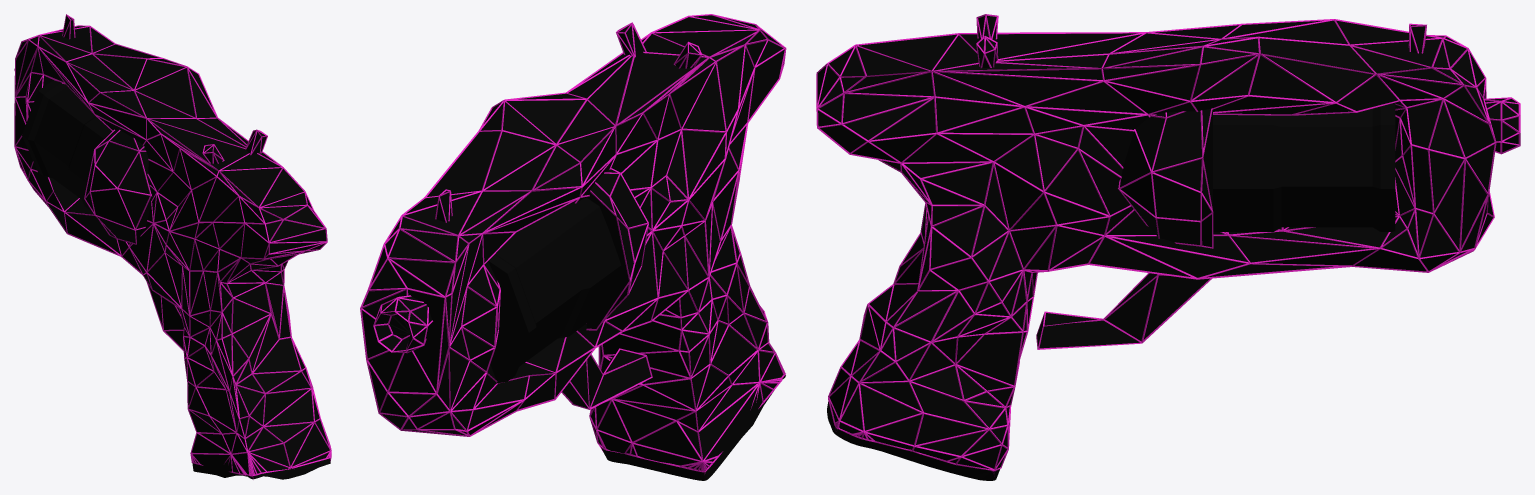
Rendered from EnergyPistol.glb.
3 views of the same model, side by side, from view 1: azimuth 30°, elevation 25°; view 2: azimuth 150°, elevation 25°; view 3: azimuth 270°, elevation 25° (orthographic). The views are drawn at different scales.
Parts seen in each view (by area): view 1: Pistol_Cube.001, Cylinder_Cube.007; view 2: Pistol_Cube.001, Cylinder_Cube.007; view 3: Pistol_Cube.001, Cylinder_Cube.007.
Part boxes in pixels (box(x1,y1,x2,y2)): Pistol_Cube.001: box(14, 14, 331, 479); Cylinder_Cube.007: box(22, 80, 111, 211); Pistol_Cube.001: box(360, 14, 786, 480); Cylinder_Cube.007: box(488, 197, 621, 383); Pistol_Cube.001: box(816, 14, 1520, 480); Cylinder_Cube.007: box(1213, 102, 1395, 231).
Size of the model in its own units: 0.0915 by 0.2342 by 0.3433.
